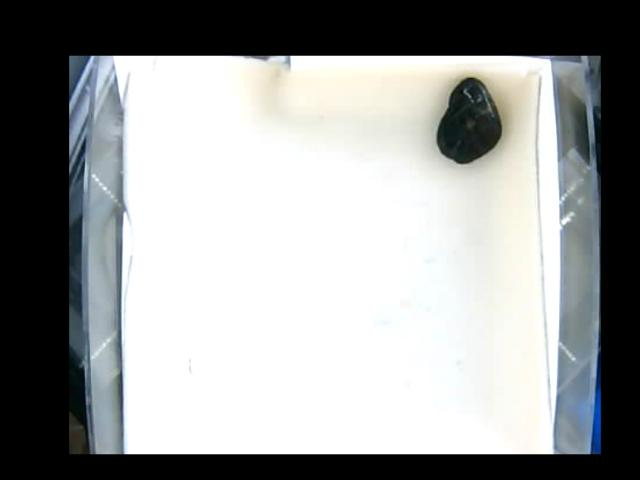Pebble: (436, 77, 503, 162)
